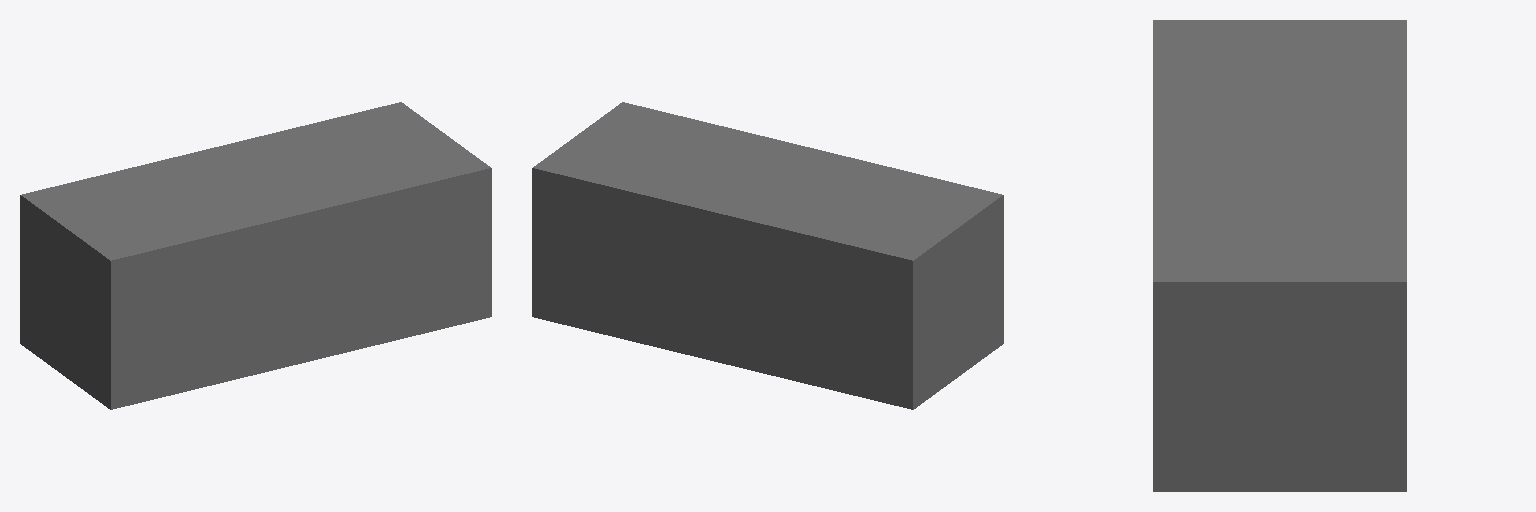
robot.urdf — box.urdf:
<?xml version="1.0" ?>
<robot name="box.urdf">
  <link name="baseLink">
    <contact>
      <lateral_friction value="1.0"/>
      <rolling_friction value="0.0001"/>
      <inertia_scaling value="3.0"/>
    </contact>
    <inertial>
      <origin rpy="0 0 0" xyz="0 0 0"/>
       <mass value="0.1"/>
       <inertia ixx="1" ixy="0" ixz="0" iyy="1" iyz="0" izz="1"/>
    </inertial>
    <visual>
      <origin rpy="0 0 0" xyz="0 0 0"/>
      <geometry>
        <!-- <box size="0.534 0.21899999999999997 0.2"/> -->
        <mesh filename="box/box.obj" scale="0.534 0.21899999999999997 0.2"/>
      </geometry>
      <material name="white">
        <color rgba="0.5 0.5 0.5 1"/>
      </material>
    </visual>
    <collision>
      <origin rpy="0 0 0" xyz="0 0 0"/>
      <geometry>
        <mesh filename="box/box.obj" scale="0.534 0.21899999999999997 0.2"/>
	 	    <!-- <box size="0.534 0.21899999999999997 0.2"/> -->
      </geometry>
    </collision>
  </link>
</robot>

--- Render facts (derived) ---
Views: 3 orthographic renders of the robot side by side, from view 1: azimuth 30°, elevation 25°; view 2: azimuth 150°, elevation 25°; view 3: azimuth 270°, elevation 25°.
Model box.urdf with 1 links and 0 joints (none), rooted at baseLink, posed all joints at 0.
Visible links, largest first — view 1: baseLink; view 2: baseLink; view 3: baseLink.
Boxes of the visible links, left/top/right/bottom form: baseLink: left=20, top=102, right=491, bottom=409; baseLink: left=532, top=102, right=1003, bottom=409; baseLink: left=1153, top=20, right=1406, bottom=491.
Size in the robot's own frame: 0.534 by 0.219 by 0.2 metres.
1 mesh visuals loaded from 1 distinct referenced files (1 OBJ).
